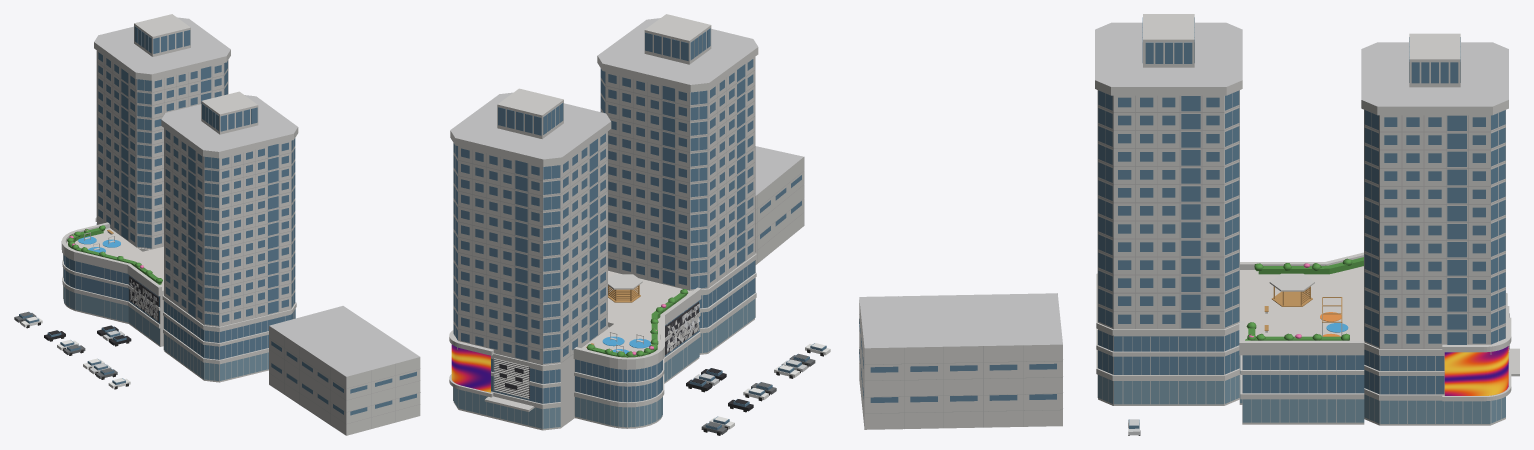
The model's file is complex.glb.
The picture shows the model from 3 angles, left to right: view 1: azimuth 30°, elevation 25°; view 2: azimuth 150°, elevation 25°; view 3: azimuth 270°, elevation 25°; orthographic projection. The views are drawn at different scales.
Visible parts, largest first — view 1: Tower A, Tower B, Annex, Podium, Cars; view 2: Tower B, Tower A, Podium, Annex, Media Screen, Cars; view 3: Tower A, Tower B, Annex, Podium, Media Screen.
Boxes of the visible parts, <box> form: Tower A: <box>161,91,298,382</box>; Tower B: <box>94,14,230,251</box>; Annex: <box>269,306,420,435</box>; Podium: <box>61,222,163,346</box>; Cars: <box>14,311,131,389</box>; Tower B: <box>450,88,611,430</box>; Tower A: <box>597,14,758,354</box>; Podium: <box>573,270,701,428</box>; Annex: <box>755,146,804,264</box>; Media Screen: <box>449,330,534,411</box>; Cars: <box>686,343,830,435</box>; Tower A: <box>1095,14,1242,405</box>; Tower B: <box>1361,33,1508,425</box>; Annex: <box>859,293,1062,429</box>; Podium: <box>1239,252,1364,424</box>; Media Screen: <box>1442,306,1519,401</box>.
Size of the model in its own units: 54.21 by 59.8 by 103.
19 materials, 1 textured.
